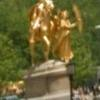Statue: (13, 1, 81, 73)
